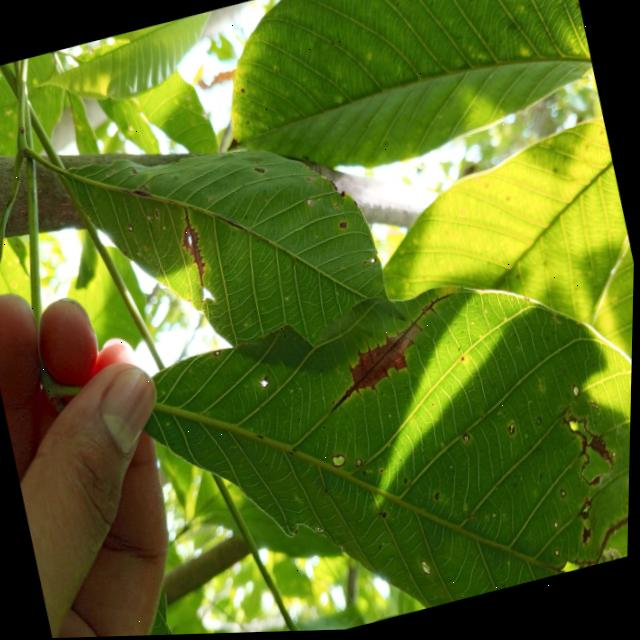Colletotrichum: (331, 454, 348, 471), (508, 425, 518, 437), (306, 199, 316, 209), (304, 176, 314, 186), (355, 460, 363, 469), (560, 492, 568, 501), (553, 523, 561, 532), (213, 351, 222, 359), (464, 437, 471, 445), (206, 197, 213, 203), (334, 206, 340, 212), (147, 215, 152, 222), (556, 552, 561, 559), (128, 227, 132, 232)
Corynespora: (311, 292, 476, 417), (171, 204, 213, 291)
